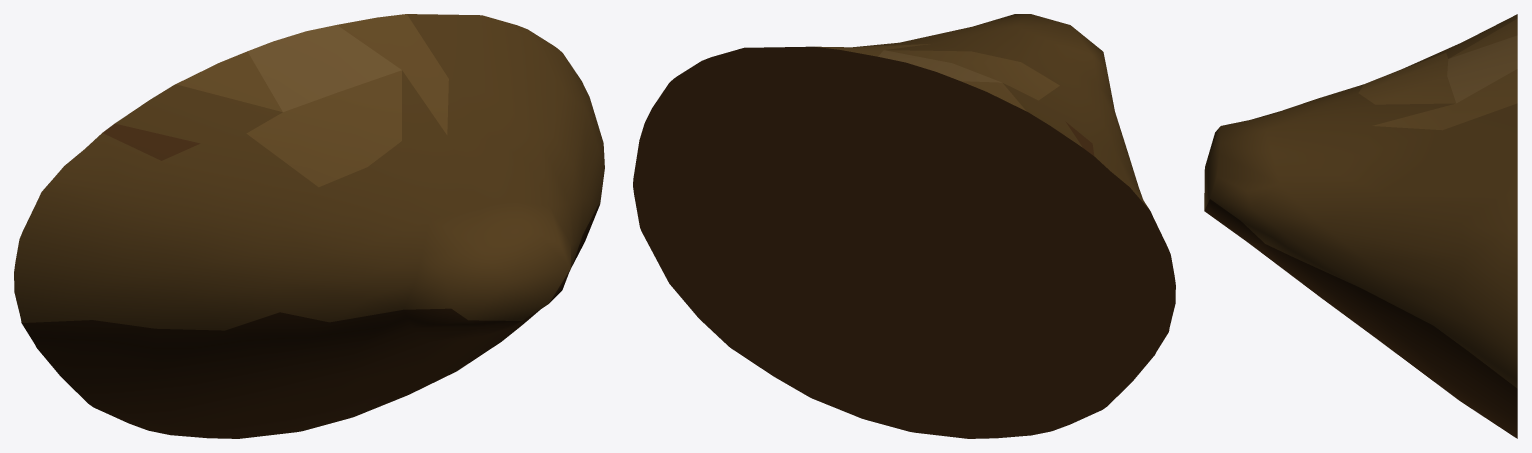
Rendered from ixm_maw_low_87.glb.
The picture shows the model from 3 angles, left to right: view 1: azimuth 30°, elevation 25°; view 2: azimuth 150°, elevation 25°; view 3: azimuth 270°, elevation 25°; orthographic projection. The views are drawn at different scales.
Visible parts, largest first — view 1: ixm_maw_low_87; view 2: ixm_maw_low_87; view 3: ixm_maw_low_87.
Boxes of the visible parts, box(x1,y1,x2,y2) form: ixm_maw_low_87: box(14, 14, 604, 438); ixm_maw_low_87: box(633, 14, 1175, 438); ixm_maw_low_87: box(1204, 14, 1517, 438).
Size of the model in its own units: 10.35 by 6.71 by 5.58.
